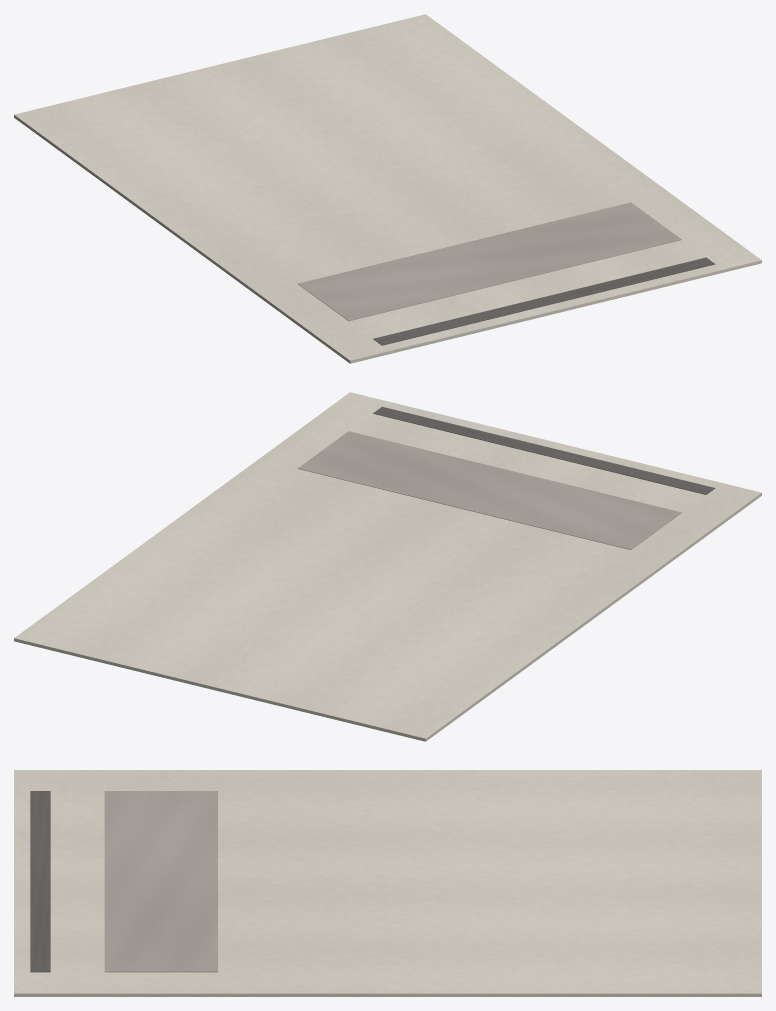
The model's file is mission_title_page.glb.
3 renders of one model, top to bottom at view 1: azimuth 30°, elevation 25°; view 2: azimuth 150°, elevation 25°; view 3: azimuth 270°, elevation 25°, orthographic. The views are drawn at different scales.
Visible parts, largest first — view 1: paper, title_texture_surface, file_index_strip; view 2: paper, title_texture_surface, file_index_strip; view 3: paper, title_texture_surface, file_index_strip.
Boxes of the visible parts, bbox=[...] form: paper: bbox=[14, 14, 761, 363]; title_texture_surface: bbox=[298, 202, 681, 321]; file_index_strip: bbox=[373, 257, 715, 345]; paper: bbox=[14, 392, 761, 741]; title_texture_surface: bbox=[297, 431, 681, 549]; file_index_strip: bbox=[373, 406, 715, 494]; paper: bbox=[14, 770, 761, 996]; title_texture_surface: bbox=[104, 791, 217, 972]; file_index_strip: bbox=[30, 791, 50, 972].
Bounding box in the file's own units: 0.21 × 0.0017 × 0.297.
Materials: 3 (3 with a texture image).
